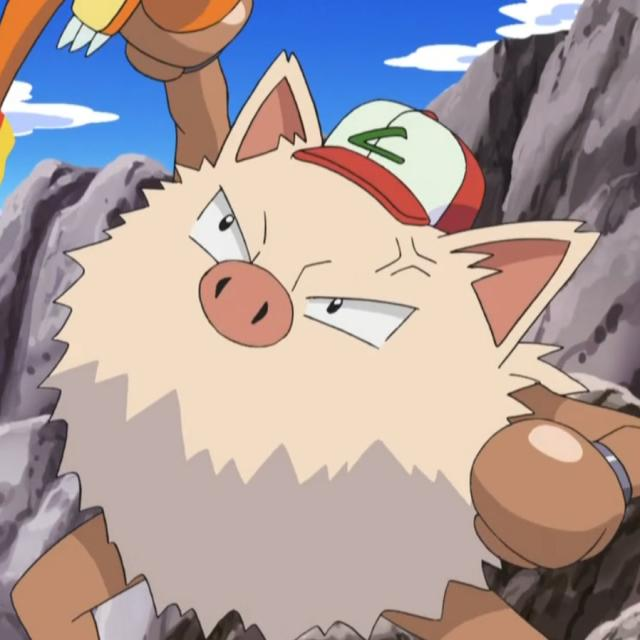Primeape: (61, 68, 563, 630)
